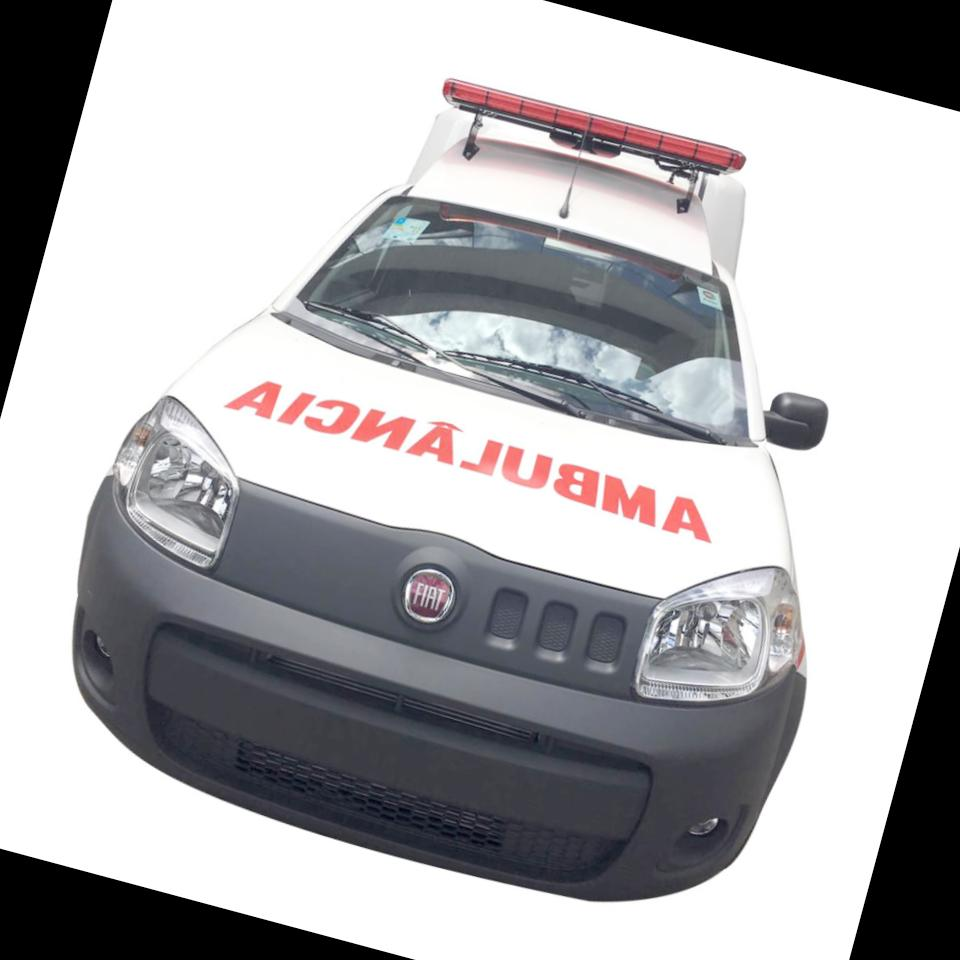bombeiro: (21, 11, 940, 950)
